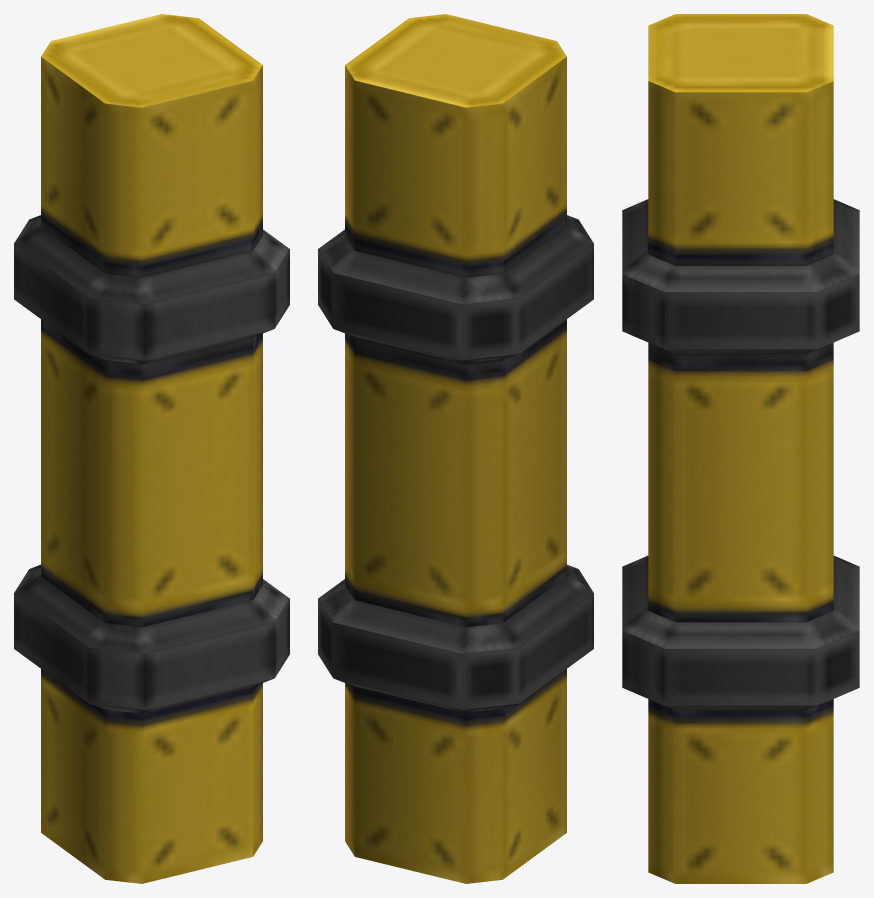
File: Column_Small.FBX
3 renders of one model, left to right at view 1: azimuth 30°, elevation 25°; view 2: azimuth 150°, elevation 25°; view 3: azimuth 270°, elevation 25°, orthographic.
Visible parts, largest first — view 1: Column_Small; view 2: Column_Small; view 3: Column_Small.
Part boxes in pixels (x1=…): Column_Small: x1=14, y1=14, x2=289, y2=883; Column_Small: x1=318, y1=14, x2=593, y2=883; Column_Small: x1=622, y1=14, x2=859, y2=883.
Size of the model in its own units: 92.25 by 340 by 92.25.
